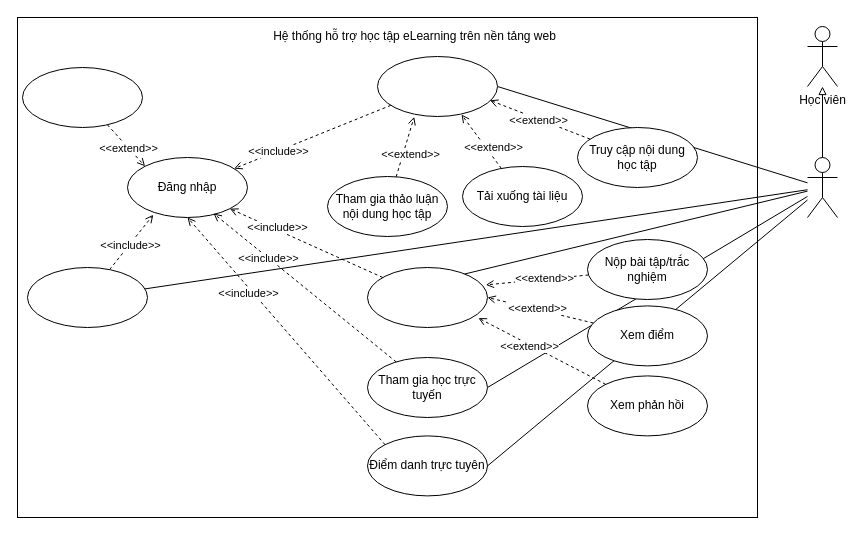
Image size: 864x535. Some labels were removed from this diagram. Each missing label, with the centre of its shape:
Khóa học dành cho lớp học thuật: pixel 437 86
Làm bài tập/trắc nghiệm dành cho lớp học thuật: pixel 427 297
Quên mật khẩu: pixel 82 97
Sinh viên: pixel 822 187
Tương tác với chatbot: pixel 87 297
